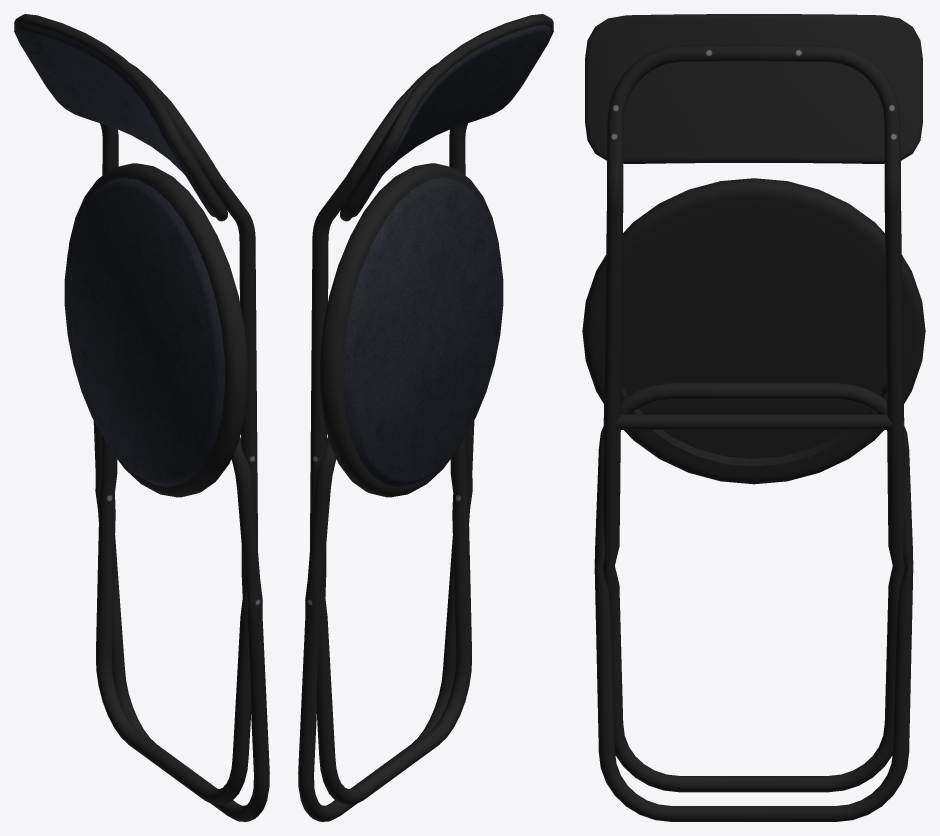
File: SM_Chair_Foldable_Round_01_Folded.fbx
3 renders of one model, left to right at view 1: azimuth 30°, elevation 25°; view 2: azimuth 150°, elevation 25°; view 3: azimuth 270°, elevation 25°, orthographic.
Visible parts, largest first — view 1: SM_Chair_Foldable_Round_01_Folded_LOD0; view 2: SM_Chair_Foldable_Round_01_Folded_LOD0; view 3: SM_Chair_Foldable_Round_01_Folded_LOD0.
Boxes of the visible parts, x1,y1,x2,y2 form: SM_Chair_Foldable_Round_01_Folded_LOD0: [14, 14, 269, 821]; SM_Chair_Foldable_Round_01_Folded_LOD0: [298, 14, 553, 821]; SM_Chair_Foldable_Round_01_Folded_LOD0: [582, 14, 925, 821].
Bounding box in the file's own units: 15.51 × 42 × 104.
1 material, 1 textured.
